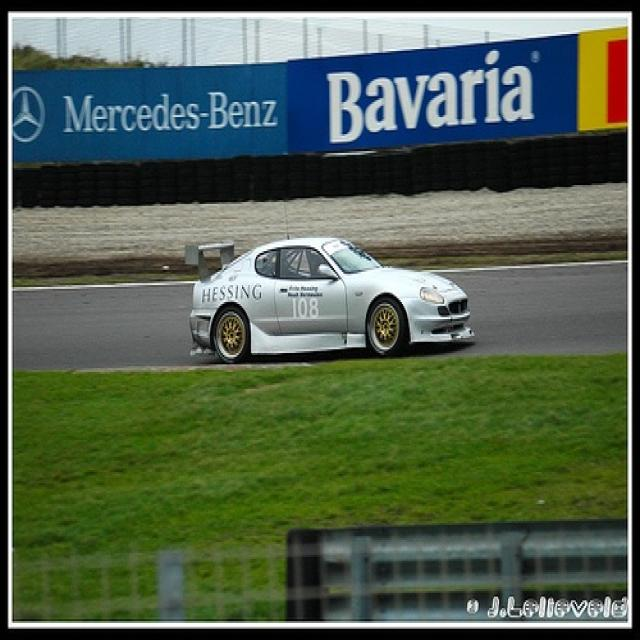car: (188, 238, 472, 353)
